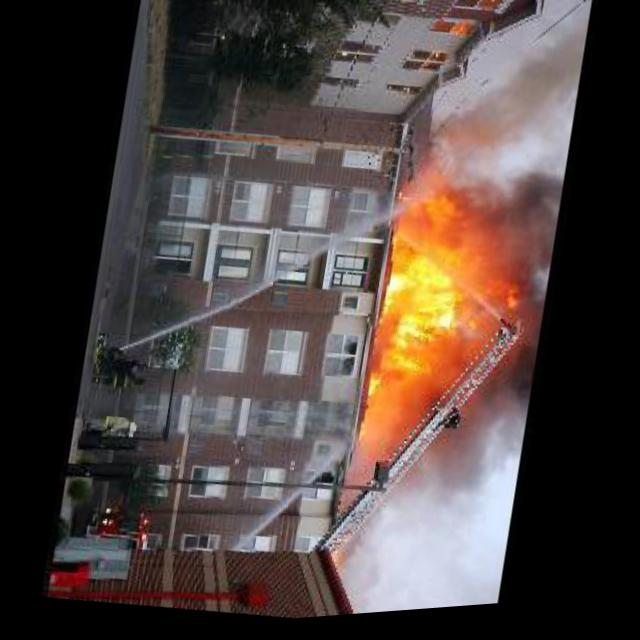Fire: (363, 168, 549, 439), (430, 36, 580, 190)
